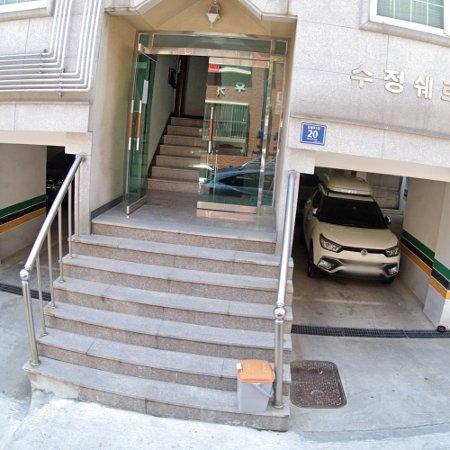stairs: (26, 222, 290, 432), (148, 117, 203, 194)
